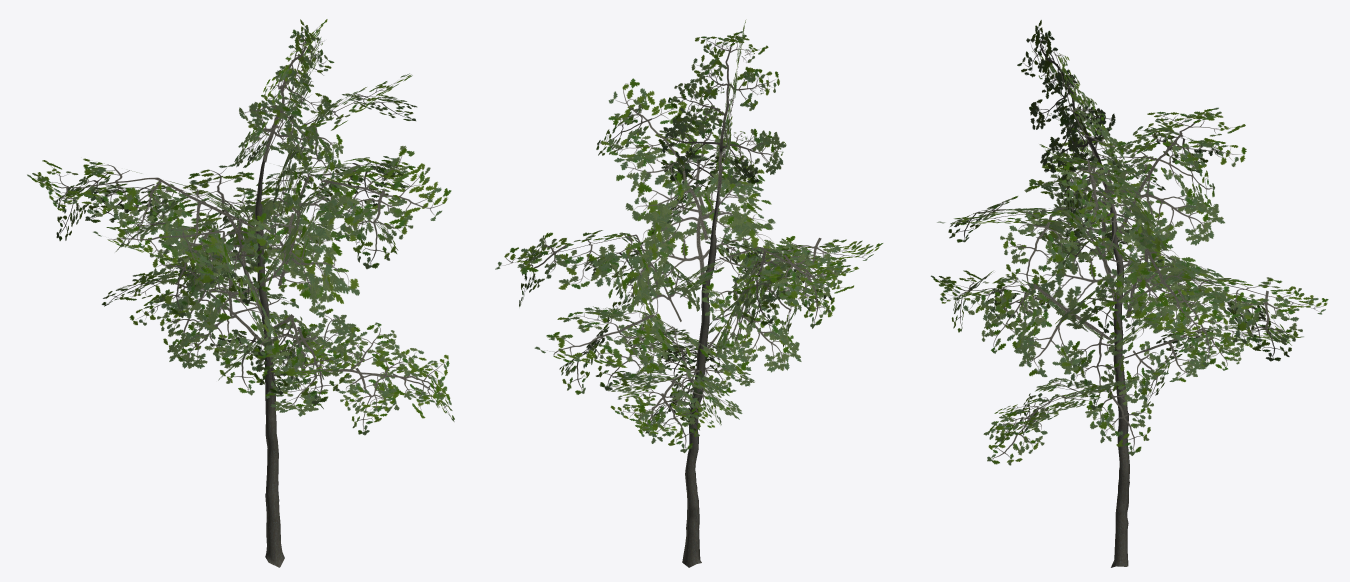
File: oak_small_1.glb
The picture shows the model from 3 angles, left to right: view 1: azimuth 30°, elevation 25°; view 2: azimuth 150°, elevation 25°; view 3: azimuth 270°, elevation 25°; orthographic projection. The views are drawn at different scales.
Visible parts, largest first — view 1: Small_oak_tree__001_LOD1_Cluster_Mat_0, Small_oak_tree__001_LOD1_Bark_Mat_0; view 2: Small_oak_tree__001_LOD1_Cluster_Mat_0, Small_oak_tree__001_LOD1_Bark_Mat_0; view 3: Small_oak_tree__001_LOD1_Cluster_Mat_0, Small_oak_tree__001_LOD1_Bark_Mat_0.
Part boxes in pixels (<box>): Small_oak_tree__001_LOD1_Cluster_Mat_0: <box>27,19,454,435</box>; Small_oak_tree__001_LOD1_Bark_Mat_0: <box>255,159,284,567</box>; Small_oak_tree__001_LOD1_Cluster_Mat_0: <box>495,20,883,453</box>; Small_oak_tree__001_LOD1_Bark_Mat_0: <box>682,189,719,567</box>; Small_oak_tree__001_LOD1_Cluster_Mat_0: <box>931,20,1328,465</box>; Small_oak_tree__001_LOD1_Bark_Mat_0: <box>1102,172,1129,567</box>.
Bounding box in the file's own units: 3.86 × 5.68 × 3.92.
Materials: 2 (2 with a texture image).
